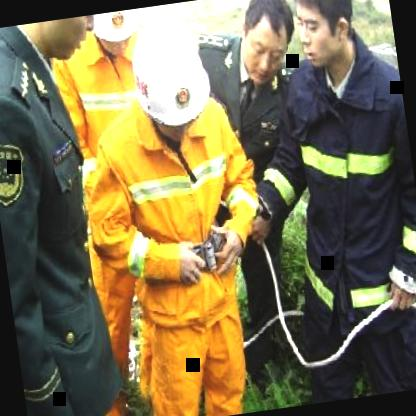head: (0, 12, 116, 86), (229, 0, 302, 85), (288, 0, 364, 74), (0, 27, 7, 102)
helmet: (123, 14, 221, 148), (87, 6, 155, 68)
